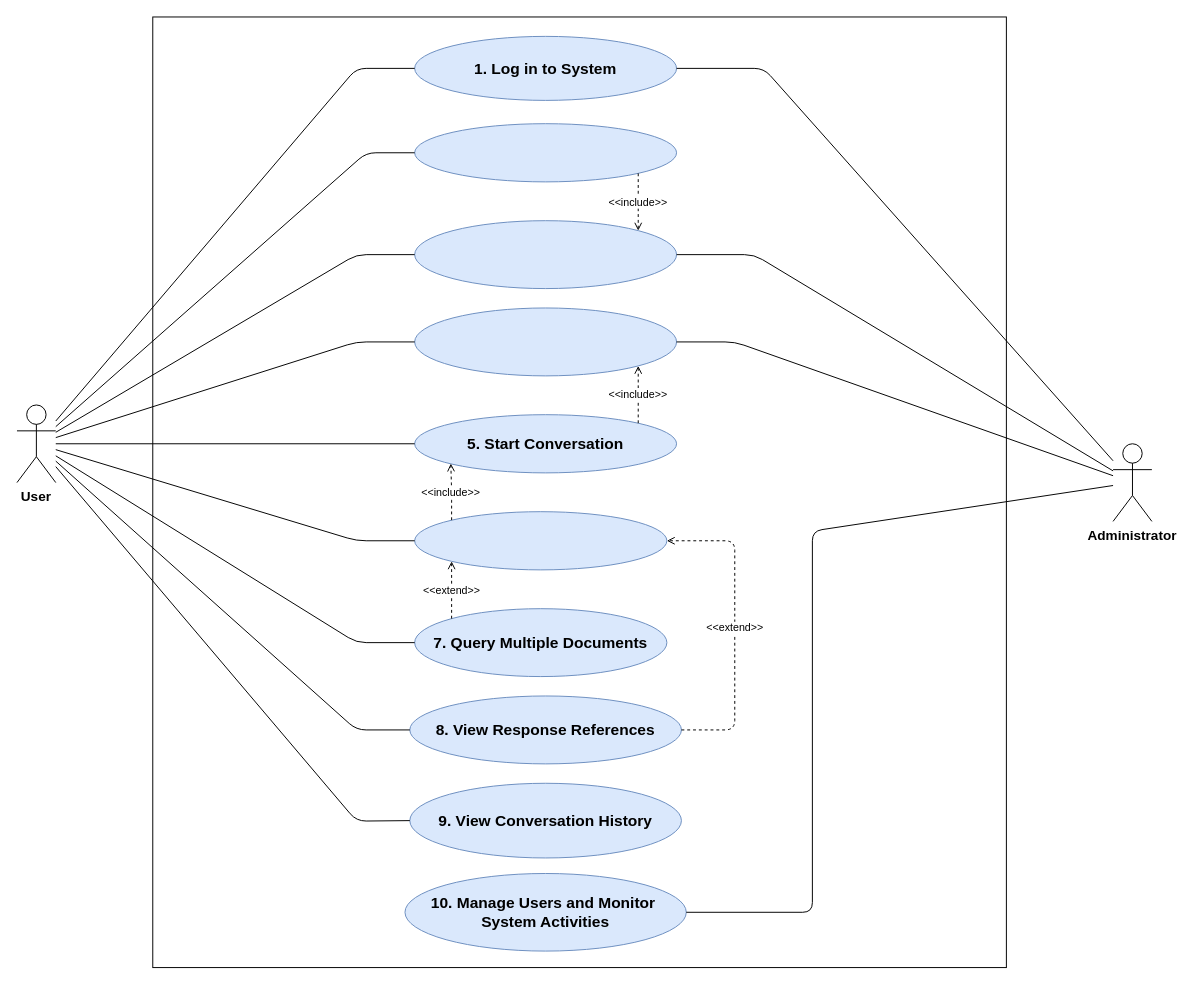
The diagram is 1194 pixels wide and 985 high, and some of its shapes have lost their labels. Here are the shapes that lost their labels. From the top down, the centre of each, then its label:
At point (545, 152): "2. Upload Document".
At point (545, 254): "3. Monitor Document Processing".
At point (545, 341): "4. View and Manage Documents".
At point (540, 540): "6. Ask Question".
